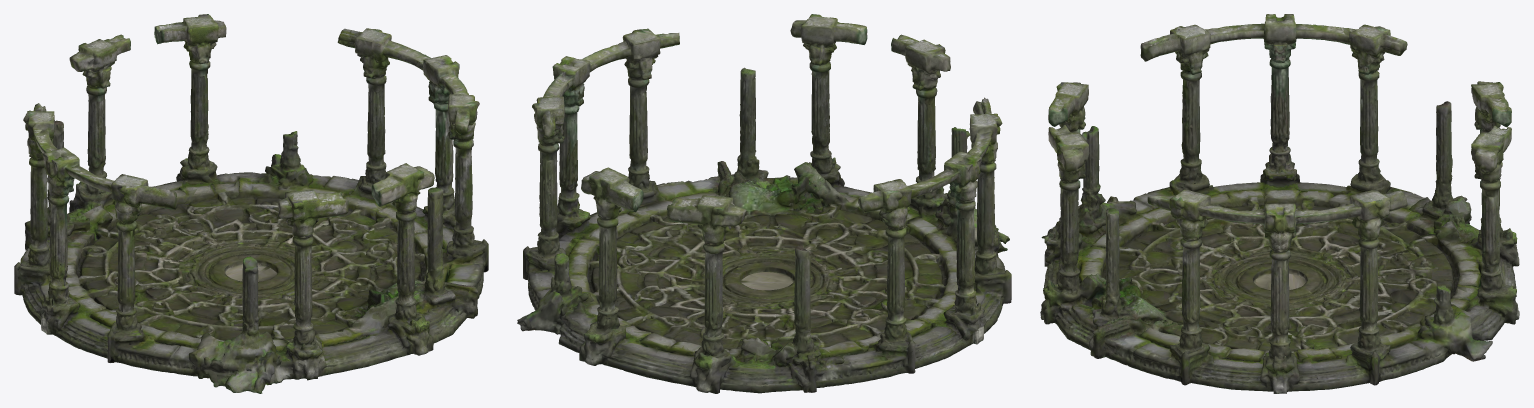
File: Ancient_Stone_Circle.glb
3 views of the same model, side by side, from view 1: azimuth 30°, elevation 25°; view 2: azimuth 150°, elevation 25°; view 3: azimuth 270°, elevation 25° (orthographic). The views are drawn at different scales.
Parts seen in each view (by area): view 1: Ancient_Stone_Circle; view 2: Ancient_Stone_Circle; view 3: Ancient_Stone_Circle.
Boxes of the visible parts, x1,y1,x2,y2 form: Ancient_Stone_Circle: (14, 14, 488, 393); Ancient_Stone_Circle: (517, 14, 1011, 393); Ancient_Stone_Circle: (1040, 14, 1519, 393).
Bounding box in the file's own units: 1.9 × 0.7685 × 1.87.
Materials: 1 (1 with a texture image).
